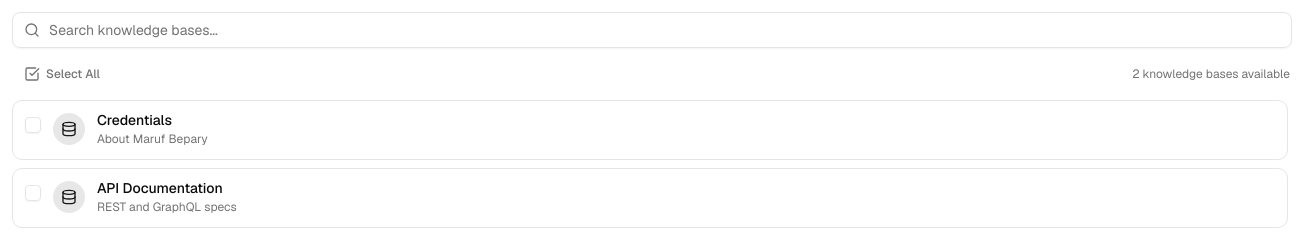
Test: KnowledgebasePicker › filters knowledge bases by search keyword
In the field with placeholder "Search knowledge bases...": (652, 30) [12, 12, 1292, 48], type "API"
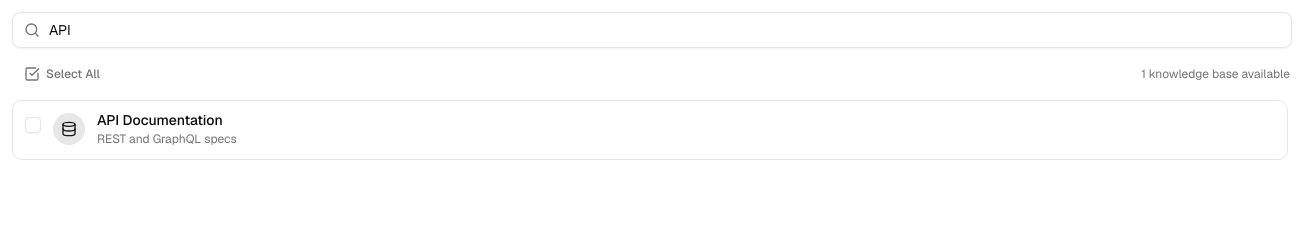
Expected: the text "API Documentation" is shown, [97, 113, 223, 127]
Now the text "Credentials" is gone
Now the text "1 knowledge base available" is shown, box [1141, 66, 1290, 82]
